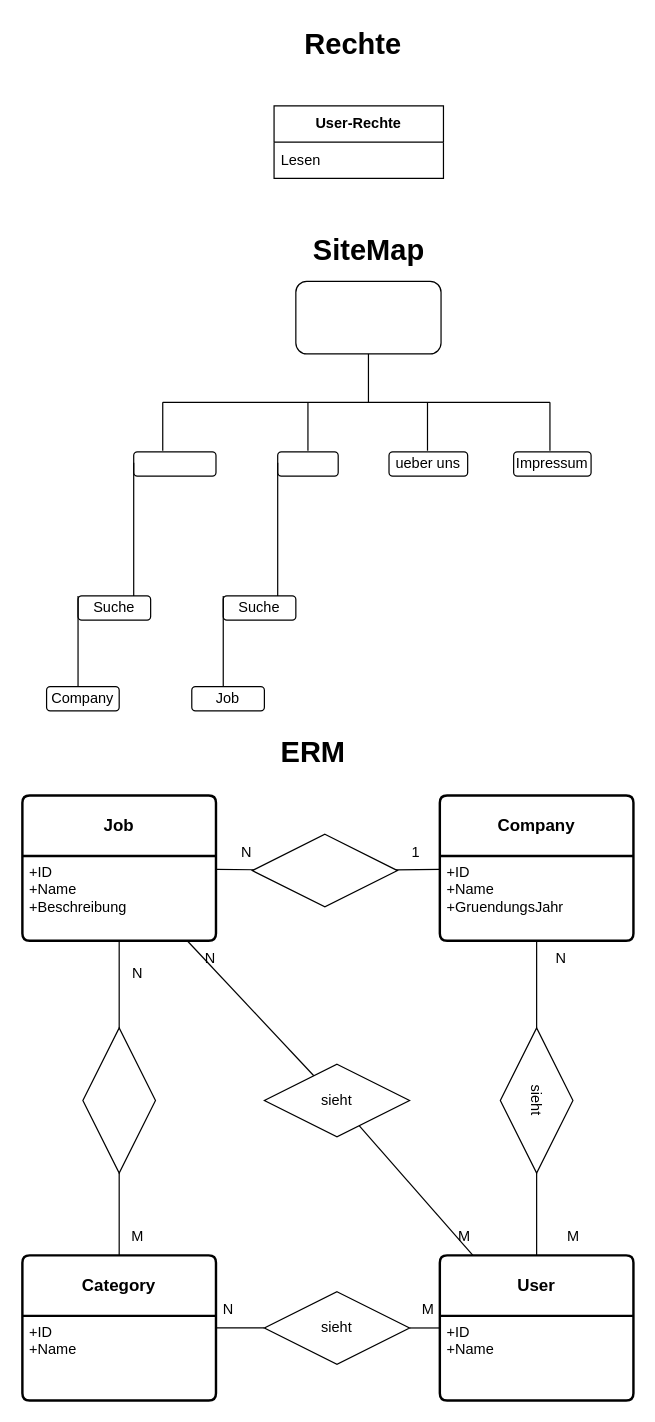
This 655x1422 diagram has some shape labels left out. The centre of each missing label's shape, as x and y in pixels:
"Companies" goes at (x=174, y=463).
"hat" goes at (x=118, y=1100).
"Jobs" goes at (x=307, y=463).
"Startseite" goes at (x=368, y=317).
"stellt aus" goes at (x=324, y=870).
